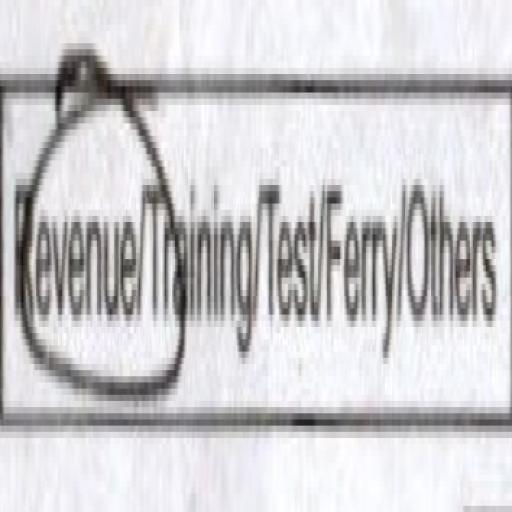check: (3, 6, 143, 512)
